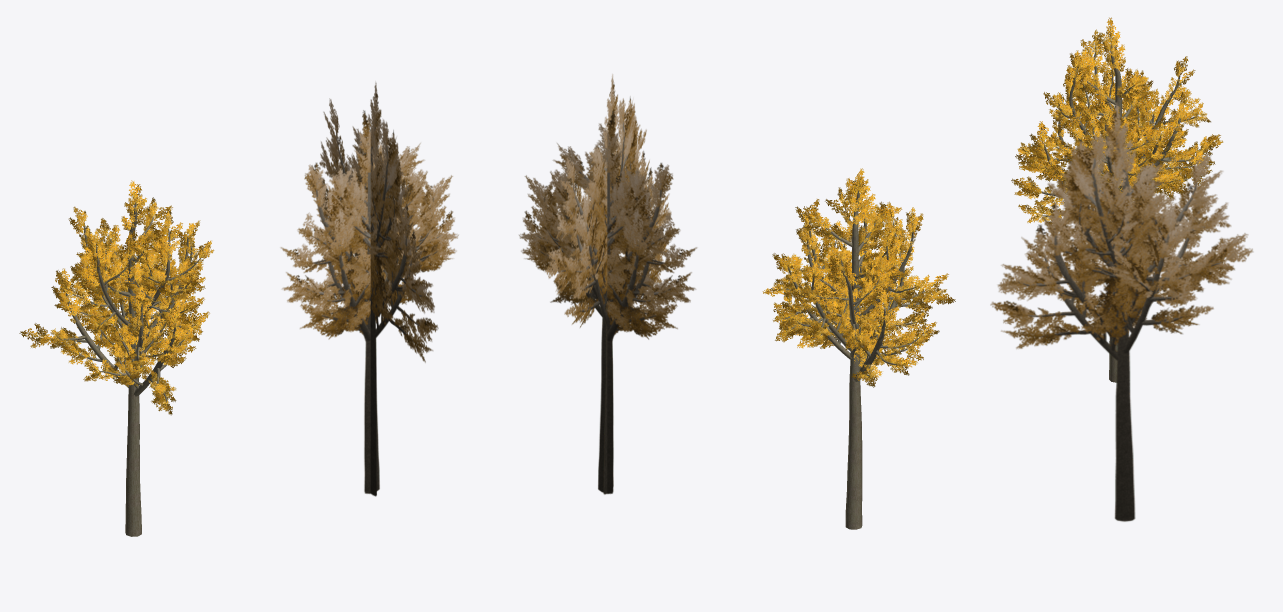
File: tree1.glb
3 renders of one model, left to right at view 1: azimuth 30°, elevation 25°; view 2: azimuth 150°, elevation 25°; view 3: azimuth 270°, elevation 25°, orthographic.
Visible parts, largest first — view 1: Empty.004, Leaves_LOD0, Branches_LOD0; view 2: Empty.004, Leaves_LOD0, Branches_LOD0; view 3: Empty.004, Leaves_LOD0, Branches_LOD0.
Part boxes in pixels (<box>): Empty.004: <box>280,82,458,496</box>; Leaves_LOD0: <box>19,180,214,415</box>; Branches_LOD0: <box>43,202,200,536</box>; Empty.004: <box>519,74,696,494</box>; Leaves_LOD0: <box>762,168,955,387</box>; Branches_LOD0: <box>783,190,929,529</box>; Empty.004: <box>990,102,1253,521</box>; Leaves_LOD0: <box>1011,17,1223,224</box>; Branches_LOD0: <box>1029,42,1204,382</box>.
Size of the model in its own units: 44.42 by 46.56 by 24.57.
Materials: 3 (3 with a texture image).
